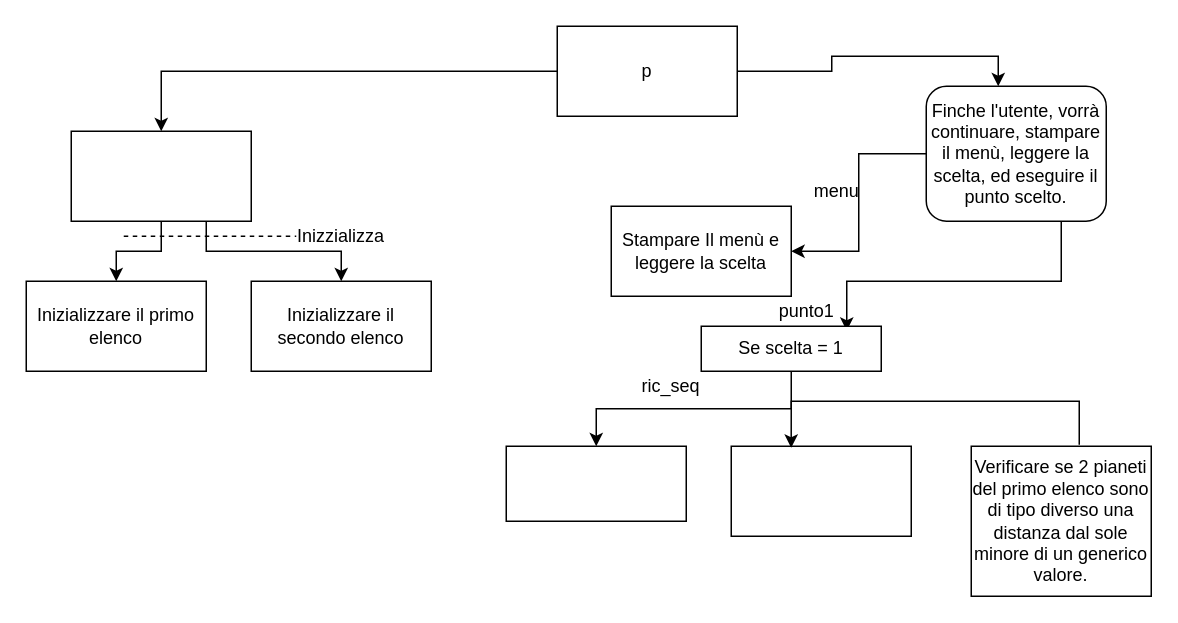
The diagram is 1178 pixels wide and 623 high, and some of its shapes have lost their labels. The centre of each missing label's shape, as x and y in pixels:
"Cercare il primo valore tramite una funzione di ricerca" goes at point 595,483.
"inizializzare 2 elenchi di corpi celesti" goes at point 160,175.
"se trovato, Cercare il secondo valore tramite una funzione di ricerca" goes at point 820,490.
